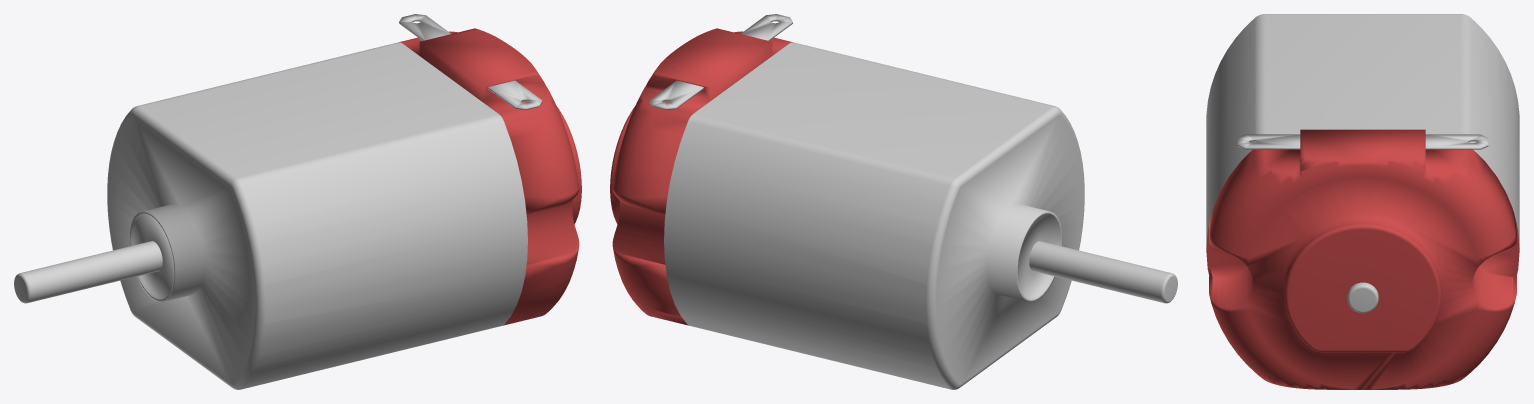
The model's file is Miniature_Motor_3v.fbx.
3 renders of one model, left to right at view 1: azimuth 30°, elevation 25°; view 2: azimuth 150°, elevation 25°; view 3: azimuth 270°, elevation 25°, orthographic.
Parts seen in each view (by area): view 1: ktrnhjldbu.002, ktrnhjldbu.001, ktrnhjldbu.003, ktrnhjldbu; view 2: ktrnhjldbu.002, ktrnhjldbu.001, ktrnhjldbu.003, ktrnhjldbu; view 3: ktrnhjldbu.001, ktrnhjldbu.002, ktrnhjldbu, ktrnhjldbu.003.
Part boxes in pixels (x1,y1,x2,y2): ktrnhjldbu.002: [107, 42, 527, 389]; ktrnhjldbu.001: [399, 28, 581, 325]; ktrnhjldbu.003: [14, 241, 162, 303]; ktrnhjldbu: [399, 14, 542, 109]; ktrnhjldbu.002: [664, 42, 1084, 389]; ktrnhjldbu.001: [610, 28, 792, 325]; ktrnhjldbu.003: [1029, 241, 1177, 303]; ktrnhjldbu: [649, 14, 792, 109]; ktrnhjldbu.001: [1206, 129, 1519, 389]; ktrnhjldbu.002: [1206, 14, 1519, 247]; ktrnhjldbu: [1237, 134, 1488, 149]; ktrnhjldbu.003: [1347, 282, 1378, 313].
Bounding box in the file's own units: 10000 × 4051 × 5063.
